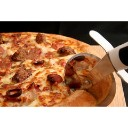pepperonipizza: (1, 33, 98, 106)
